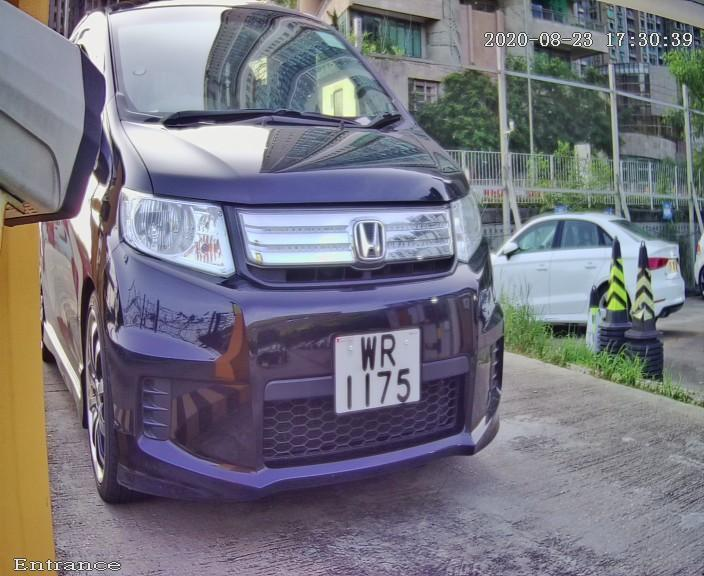Car: (7, 3, 563, 559)
License Plate: (294, 309, 464, 442)
